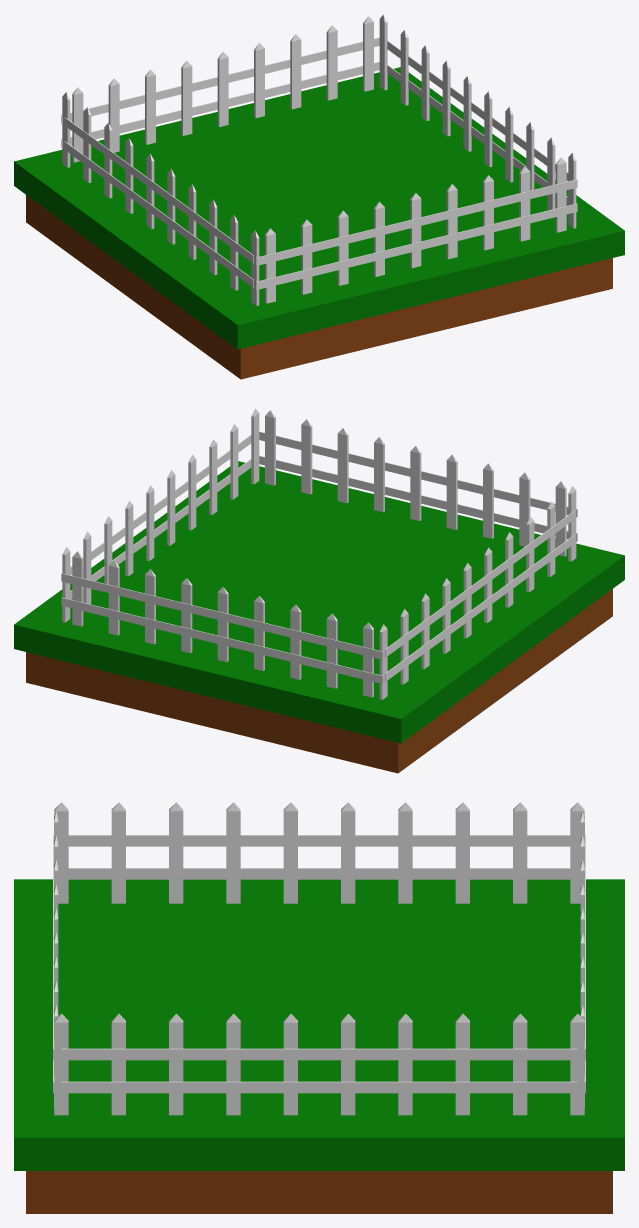
File: Platform.fbx
3 renders of one model, top to bottom at view 1: azimuth 30°, elevation 25°; view 2: azimuth 150°, elevation 25°; view 3: azimuth 270°, elevation 25°, orthographic. The views are drawn at different scales.
Visible parts, largest first — view 1: Top, Bars.003, Base, Bars.002, Bars, Tower; view 2: Top, Bars.003, Base, Bars.002, Bars, Tower; view 3: Top, Bars.002, Base, Bars, Tower, Bars.003.
Part boxes in pixels (bbox=[...]): Top: bbox=[14, 67, 624, 349]; Bars.003: bbox=[61, 16, 577, 303]; Base: bbox=[26, 195, 612, 379]; Bars.002: bbox=[62, 14, 576, 304]; Bars: bbox=[64, 117, 253, 287]; Tower: bbox=[62, 92, 259, 305]; Top: bbox=[14, 461, 624, 743]; Bars.003: bbox=[61, 410, 577, 697]; Base: bbox=[26, 589, 612, 773]; Bars.002: bbox=[62, 408, 576, 698]; Bars: bbox=[385, 511, 574, 681]; Tower: bbox=[379, 486, 575, 699]; Top: bbox=[14, 879, 624, 1170]; Bars.002: bbox=[54, 802, 584, 1115]; Base: bbox=[26, 1171, 612, 1213]; Bars: bbox=[68, 835, 570, 879]; Tower: bbox=[54, 802, 584, 903]; Bars.003: bbox=[53, 811, 585, 1108].
Bounding box in the file's own units: 1946 × 640 × 1946.
